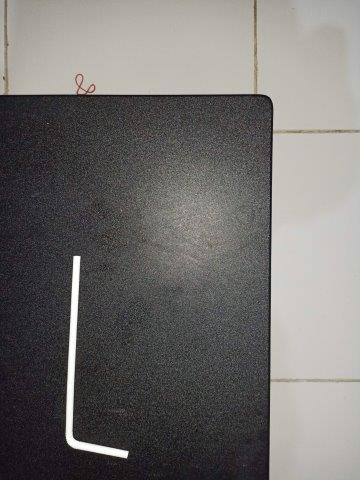karet: (75, 73, 95, 95)
sedotan: (65, 255, 129, 459)
